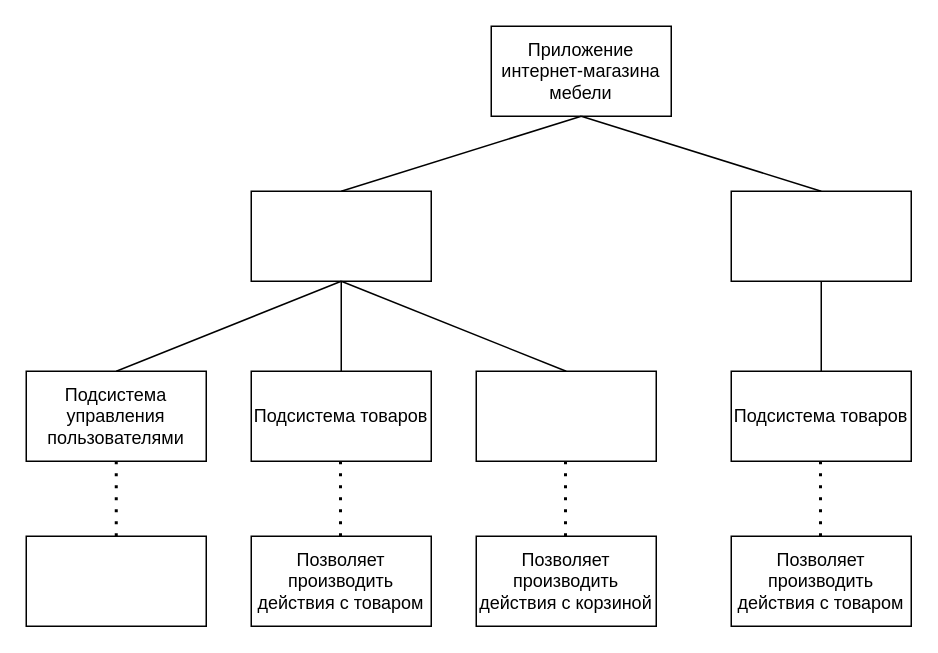
Image size: 938x653. Some labels were removed from this diagram. The shapes that lost their labels are listed below. From the top down, each one's centre as x and y in pixels, then its label:
the point at 340,235: Блок пользователя
the point at 820,235: Блок администратора
the point at 565,415: Подсистема корзины
the point at 115,580: Позволяет проводить действия с учетной записью
